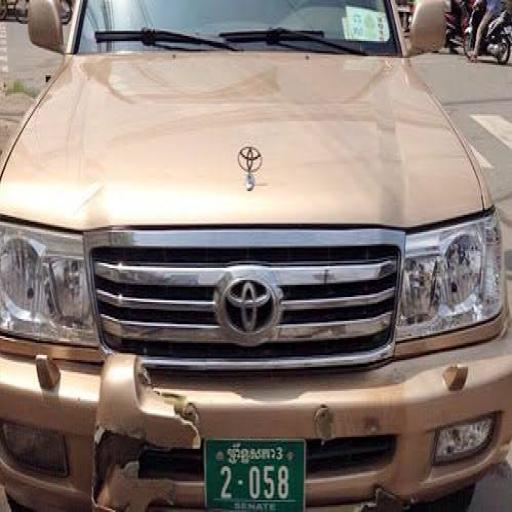Plate Number: (207, 440, 307, 512)
